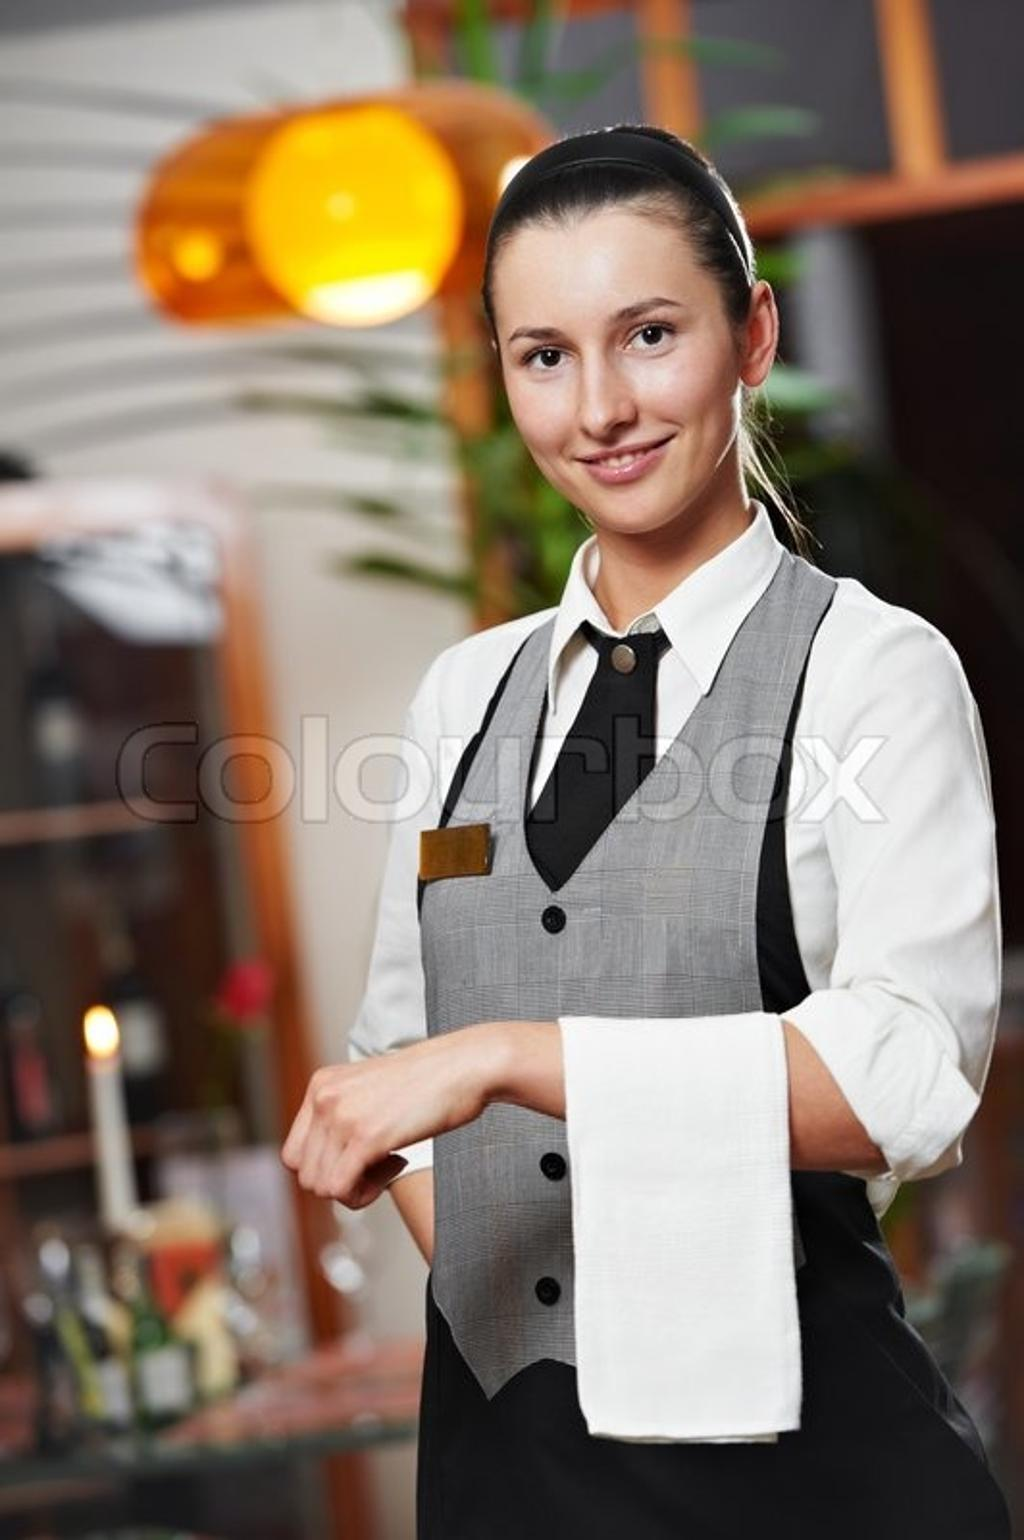face: (488, 196, 747, 533)
